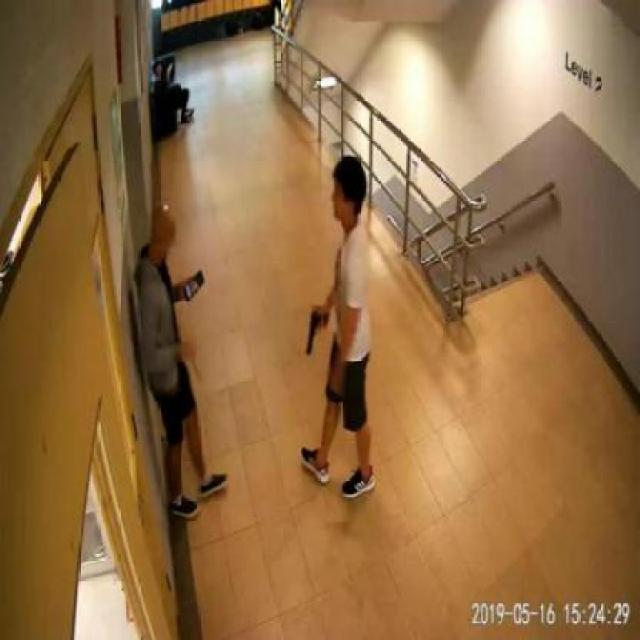gun: (304, 305, 328, 353)
